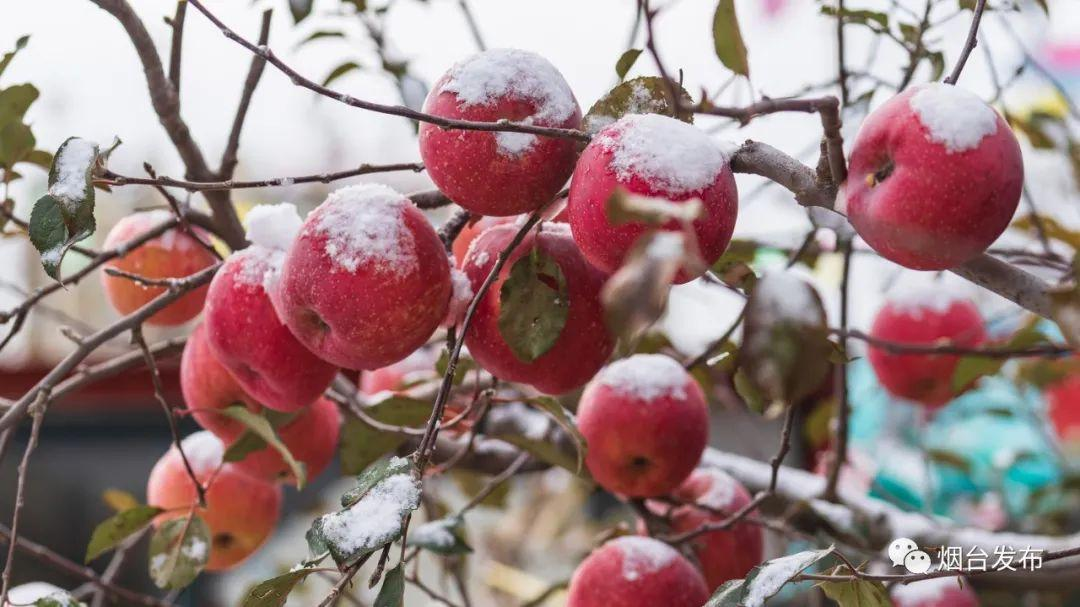apple: (828, 80, 1020, 269), (269, 188, 452, 373), (569, 105, 736, 294), (461, 222, 618, 395), (416, 51, 581, 213), (205, 242, 338, 412), (576, 356, 710, 503), (143, 435, 281, 567), (634, 468, 769, 588), (863, 290, 996, 407), (98, 204, 224, 323), (182, 323, 296, 439), (225, 399, 342, 487), (563, 537, 711, 606)
